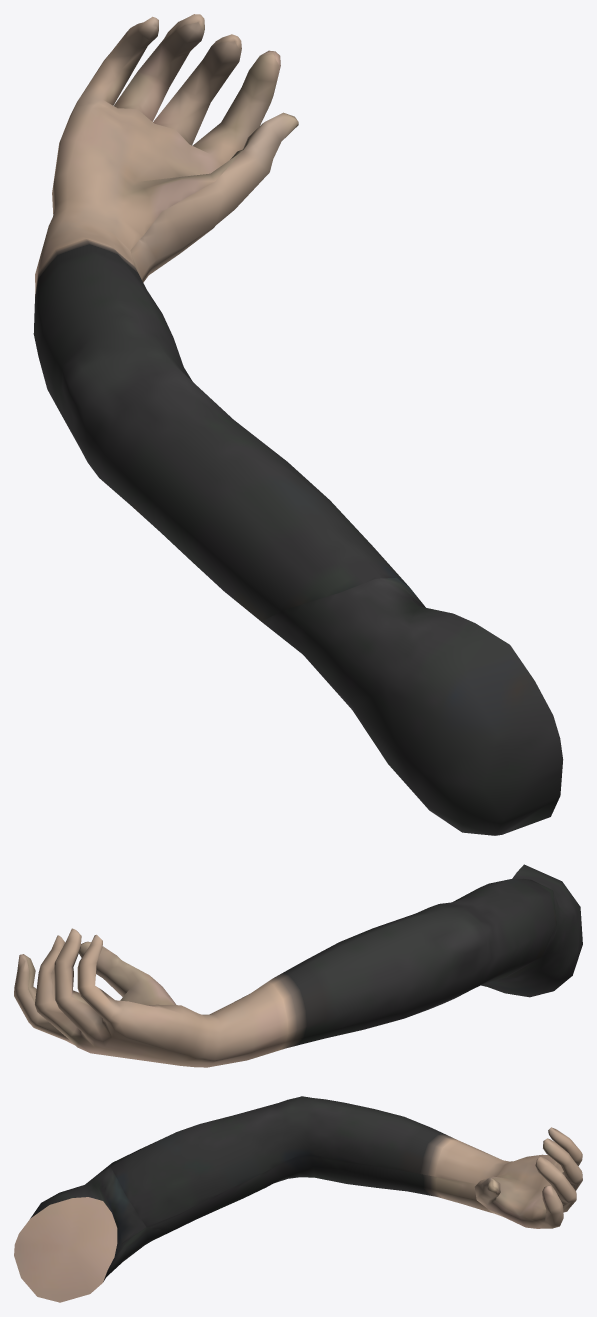
Rendered from dest_nt_nuked_female_01_arm_right_LOD0.obj.
3 views of the same model, one above another, from view 1: azimuth 30°, elevation 25°; view 2: azimuth 150°, elevation 25°; view 3: azimuth 270°, elevation 25° (orthographic). The views are drawn at different scales.
Visible parts, largest first — view 1: mtl_nt_2020_manne_fem01_head1; view 2: mtl_nt_2020_manne_fem01_head1; view 3: mtl_nt_2020_manne_fem01_head1.
Boxes of the visible parts, x1,y1,x2,y2 form: mtl_nt_2020_manne_fem01_head1: (33,14,563,835); mtl_nt_2020_manne_fem01_head1: (14,864,582,1067); mtl_nt_2020_manne_fem01_head1: (14,1096,582,1302).
Bounding box in the file's own units: 27.11 × 23.52 × 59.01.
